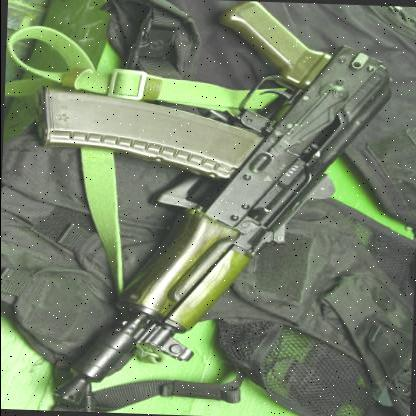rifle: (30, 4, 409, 414)
